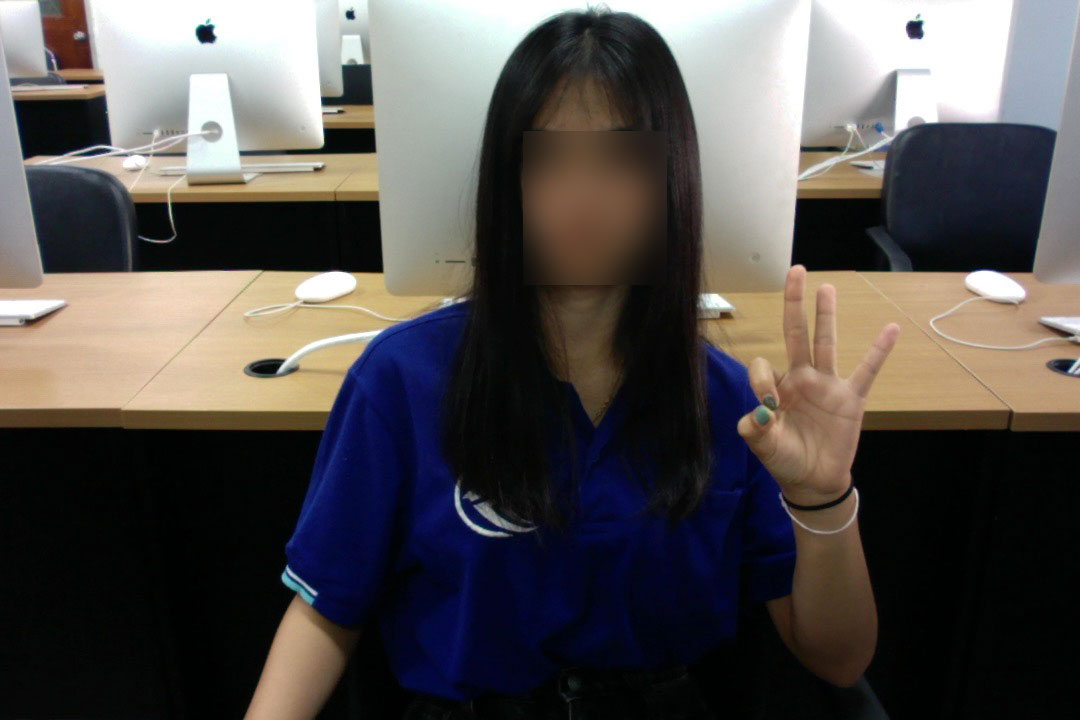for: (724, 245, 910, 529)
